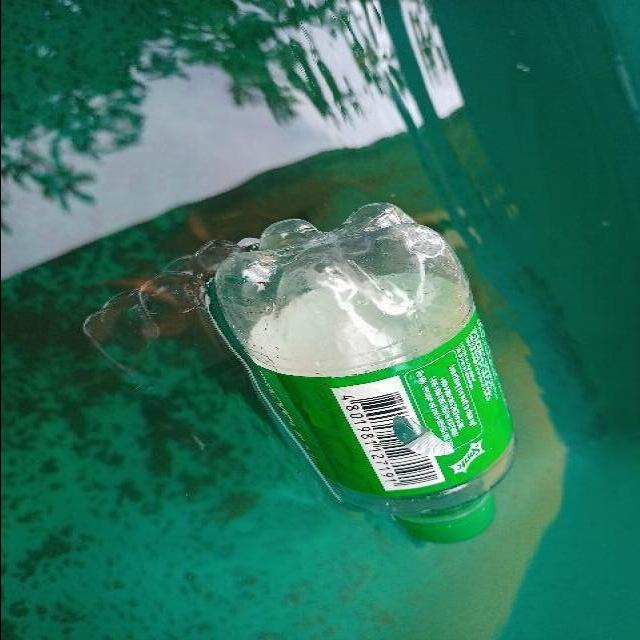Bottle: (204, 200, 518, 550)
